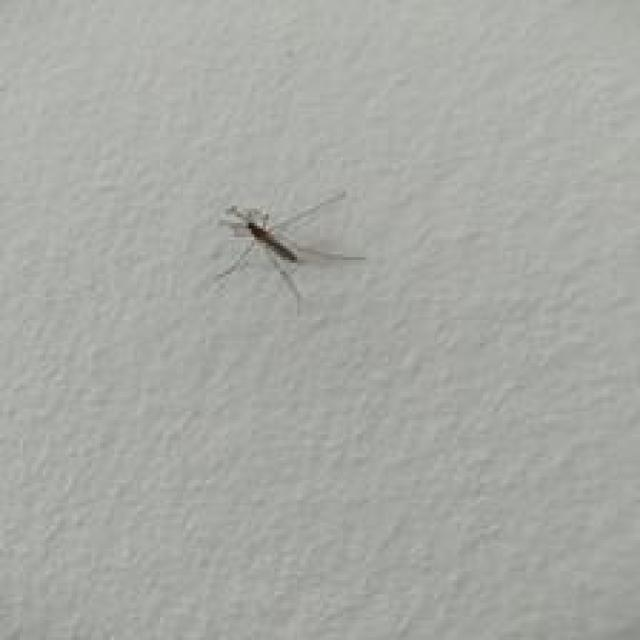Culex: (213, 187, 367, 313)
